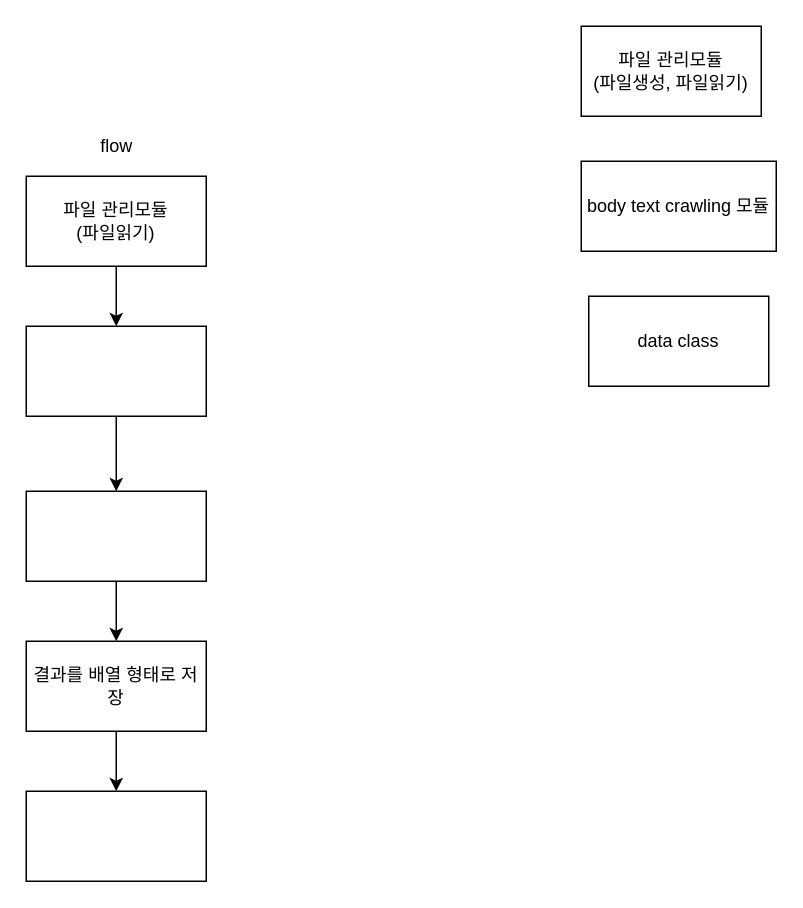
Image size: 803x908. Some labels were removed from this diagram. Here are the shapes that lost their labels. From the top down, the centre of each, then its label:
At pixel 115 370: "data class list up".
At pixel 115 535: "생성된 data class 에서 링크를 가져와 해당 패이지의 body text를 가져옴".
At pixel 115 835: "파일 관리모듈 (파일출력)".
